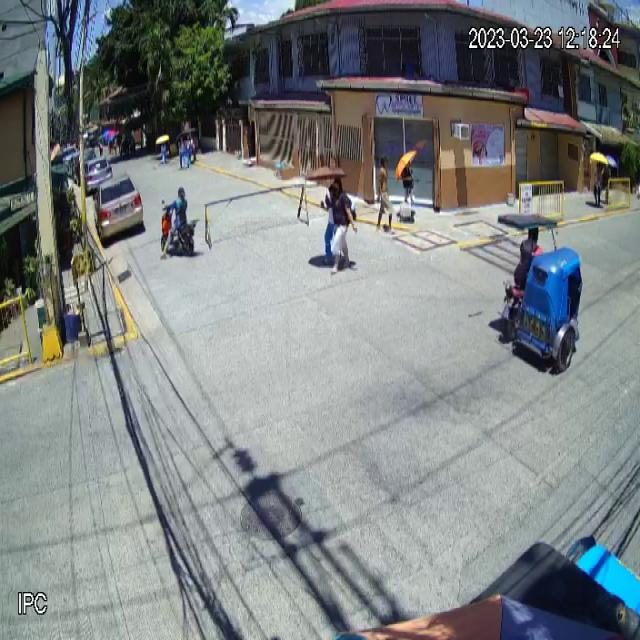Car: (92, 171, 144, 243)
Tricycle: (497, 213, 584, 373)
